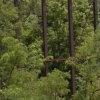Tree: (4, 0, 77, 75)
